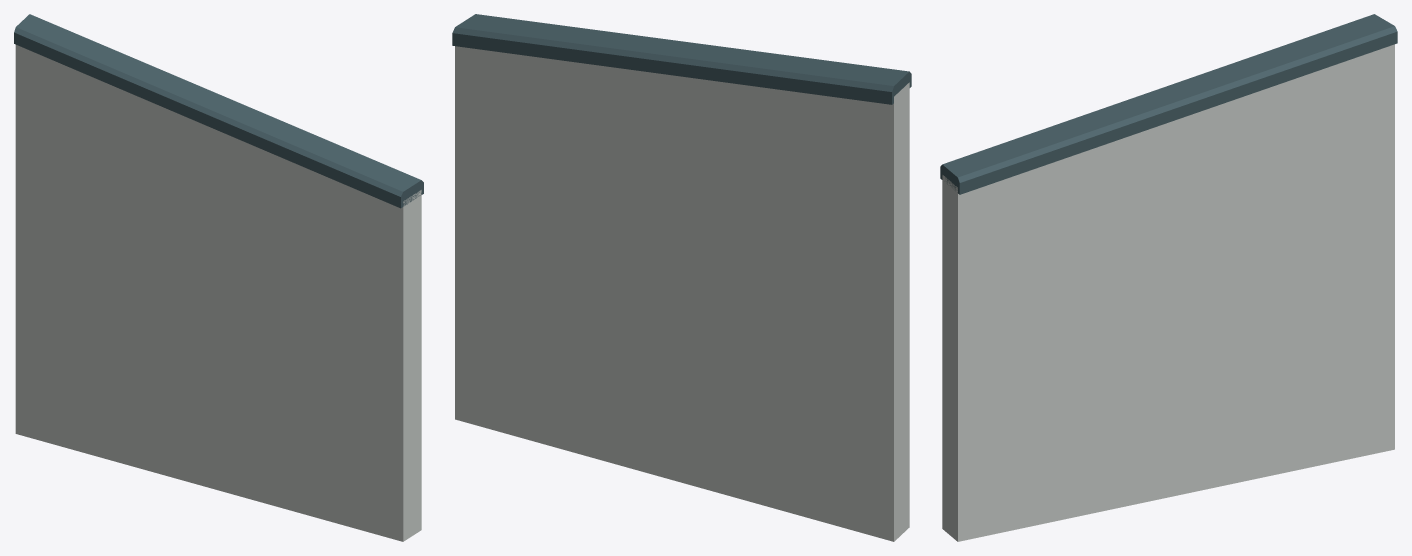
The model's file is halfwall_26_starboard_rise_2_miter_8944_4472_8219_5924.glb.
The picture shows the model from 3 angles, left to right: view 1: azimuth 30°, elevation 25°; view 2: azimuth 210°, elevation 25°; view 3: azimuth 270°, elevation 25°; orthographic projection. The views are drawn at different scales.
Visible parts, largest first — view 1: Seamless solid halfwall.103, Seamless top cap.103; view 2: Seamless solid halfwall.103, Seamless top cap.103; view 3: Seamless solid halfwall.103, Seamless top cap.103.
Part boxes in pixels (x1=…): Seamless solid halfwall.103: x1=15, y1=45, x2=421, y2=541; Seamless top cap.103: x1=14, y1=14, x2=423, y2=208; Seamless solid halfwall.103: x1=455, y1=46, x2=909, y2=541; Seamless top cap.103: x1=452, y1=14, x2=911, y2=104; Seamless solid halfwall.103: x1=942, y1=44, x2=1394, y2=541; Seamless top cap.103: x1=940, y1=14, x2=1397, y2=194.
Bounding box in the file's own units: 0.5858 × 1.08 × 1.05.
